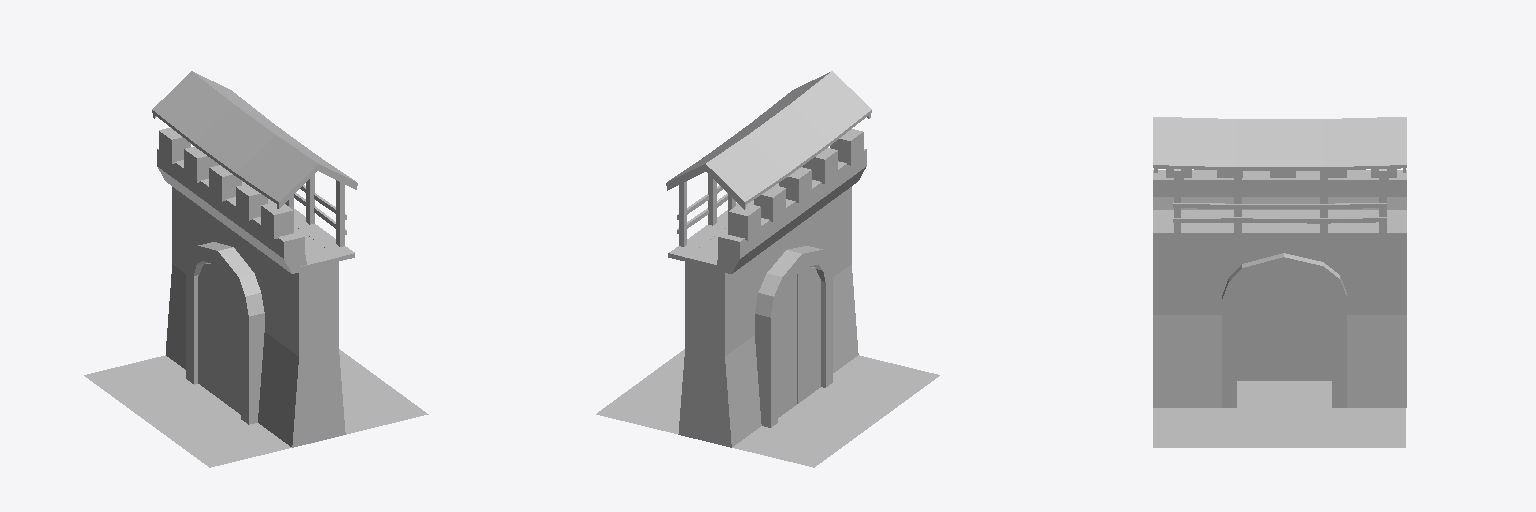
Rendered from Gate1LoPoly.obj.
The picture shows the model from 3 angles: view 1: azimuth 30°, elevation 25°; view 2: azimuth 150°, elevation 25°; view 3: azimuth 270°, elevation 25°; orthographic projection.
Parts seen in each view (by area): view 1: limestone, mudgrass, roof, floor; view 2: limestone, mudgrass, roof, floor; view 3: limestone, floor, roof, mudgrass.
Part boxes in pixels (left/top/right/bottom): limestone: left=157, top=127, right=345, bottom=447; mudgrass: left=84, top=349, right=428, bottom=467; roof: left=152, top=71, right=357, bottom=204; floor: left=153, top=114, right=356, bottom=414; limestone: left=678, top=129, right=866, bottom=447; mudgrass: left=596, top=349, right=939, bottom=467; roof: left=666, top=71, right=871, bottom=204; floor: left=667, top=114, right=870, bottom=417; limestone: left=1153, top=169, right=1406, bottom=407; floor: left=1153, top=168, right=1406, bottom=380; roof: left=1153, top=117, right=1406, bottom=170; mudgrass: left=1153, top=381, right=1405, bottom=447.
Size of the model in its own units: 76 by 92.12 by 76.36.